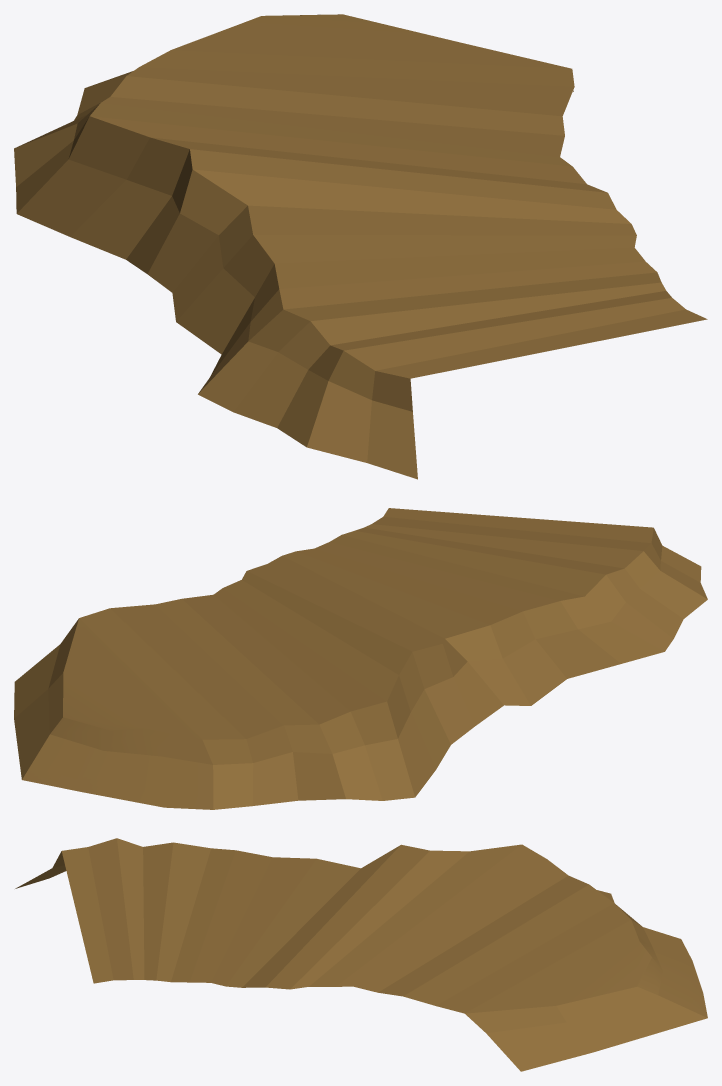
Rendered from Cliff_2.fbx.
3 renders of one model, top to bottom at view 1: azimuth 30°, elevation 25°; view 2: azimuth 150°, elevation 25°; view 3: azimuth 270°, elevation 25°, orthographic. The views are drawn at different scales.
Parts seen in each view (by area): view 1: Cliff_2; view 2: Cliff_2; view 3: Cliff_2.
Boxes of the visible parts, x1,y1,x2,y2 form: Cliff_2: (14,14,707,479); Cliff_2: (14,508,707,809); Cliff_2: (15,838,707,1071).
Size of the model in its own units: 6.73 by 1.11 by 9.6.
